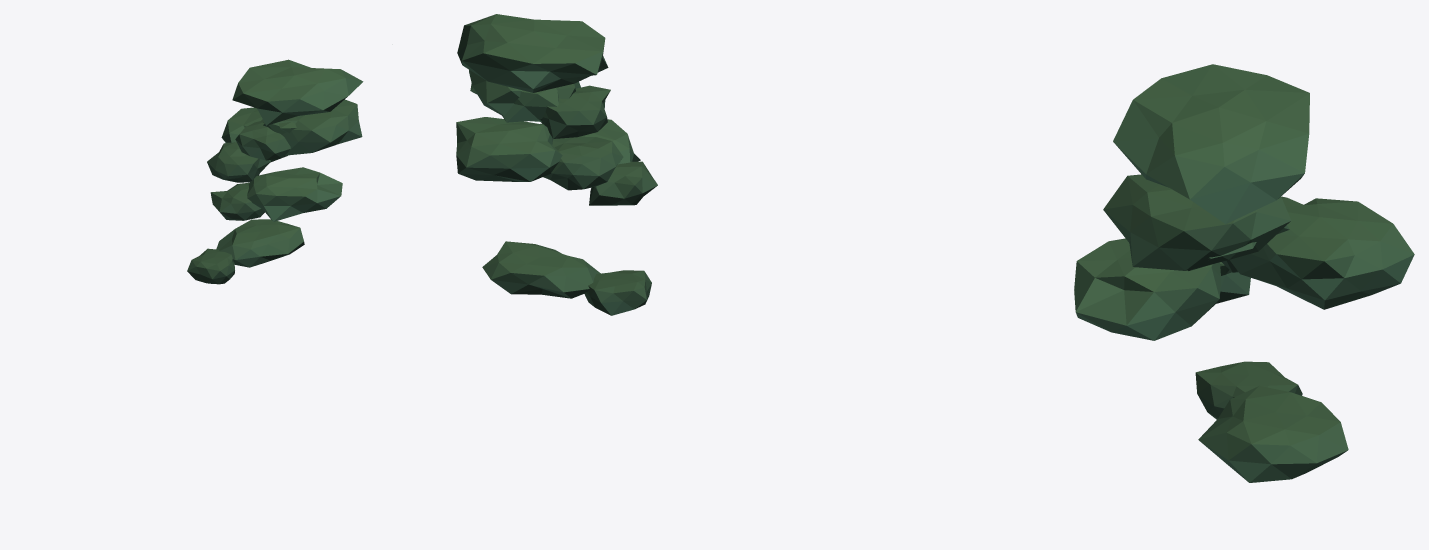
Rendered from LonePine_leaf.glb.
3 renders of one model, left to right at view 1: azimuth 30°, elevation 25°; view 2: azimuth 150°, elevation 25°; view 3: azimuth 270°, elevation 25°, orthographic. The views are drawn at different scales.
Visible parts, largest first — view 1: LonePine_leaf; view 2: LonePine_leaf; view 3: LonePine_leaf.
Boxes of the visible parts, x1,y1,x2,y2 form: LonePine_leaf: [187, 59, 363, 284]; LonePine_leaf: [456, 14, 657, 315]; LonePine_leaf: [1074, 64, 1414, 482].
Size of the model in its own units: 35.23 by 31.17 by 14.87.
